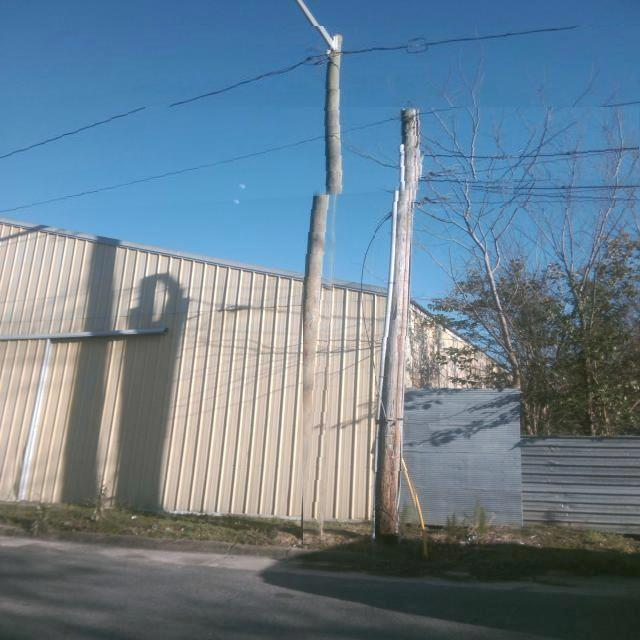pole: (303, 40, 343, 541), (375, 134, 419, 537)
wire: (1, 26, 611, 163), (5, 107, 507, 214), (420, 197, 639, 208), (419, 179, 611, 186)
